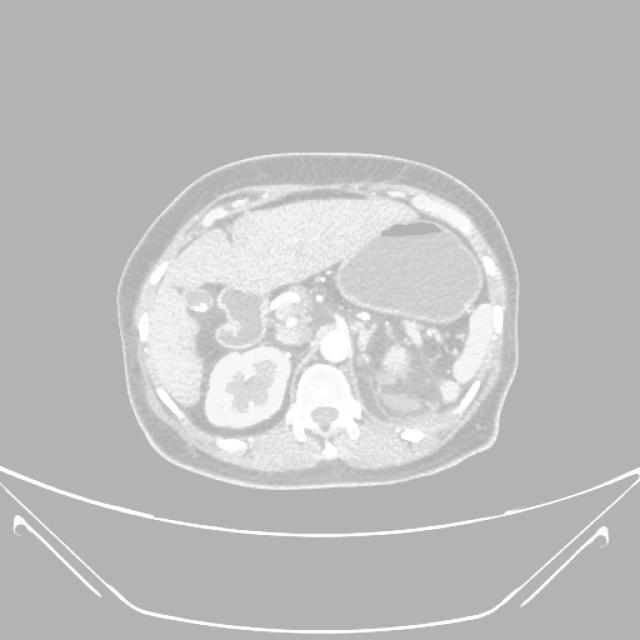TUMOR: (127, 206, 536, 447)
